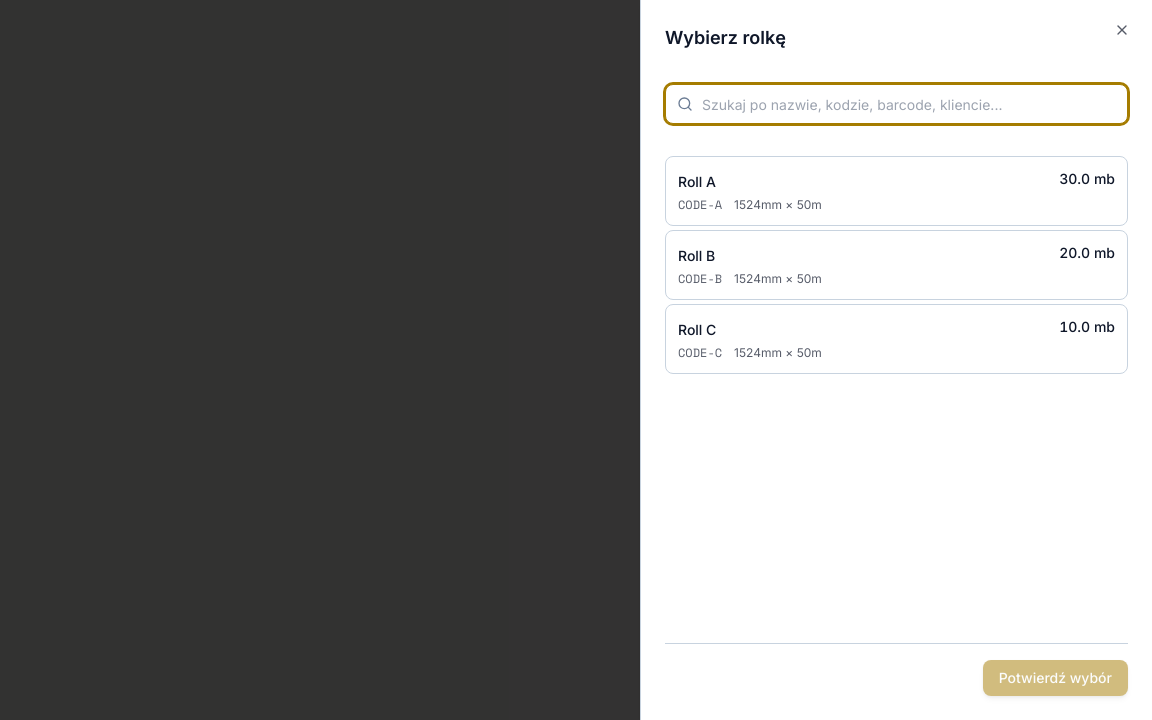
Test case: RollSelectDrawer › Selection toggling › deselects a roll when clicked again
Check: the text "Roll A" is shown, box left=678, top=173, right=716, bottom=190
Click the button "Roll A CODE-A 1524mm × 50m 30.0 mb" at x=697, y=182, box left=665, top=156, right=1128, bottom=226
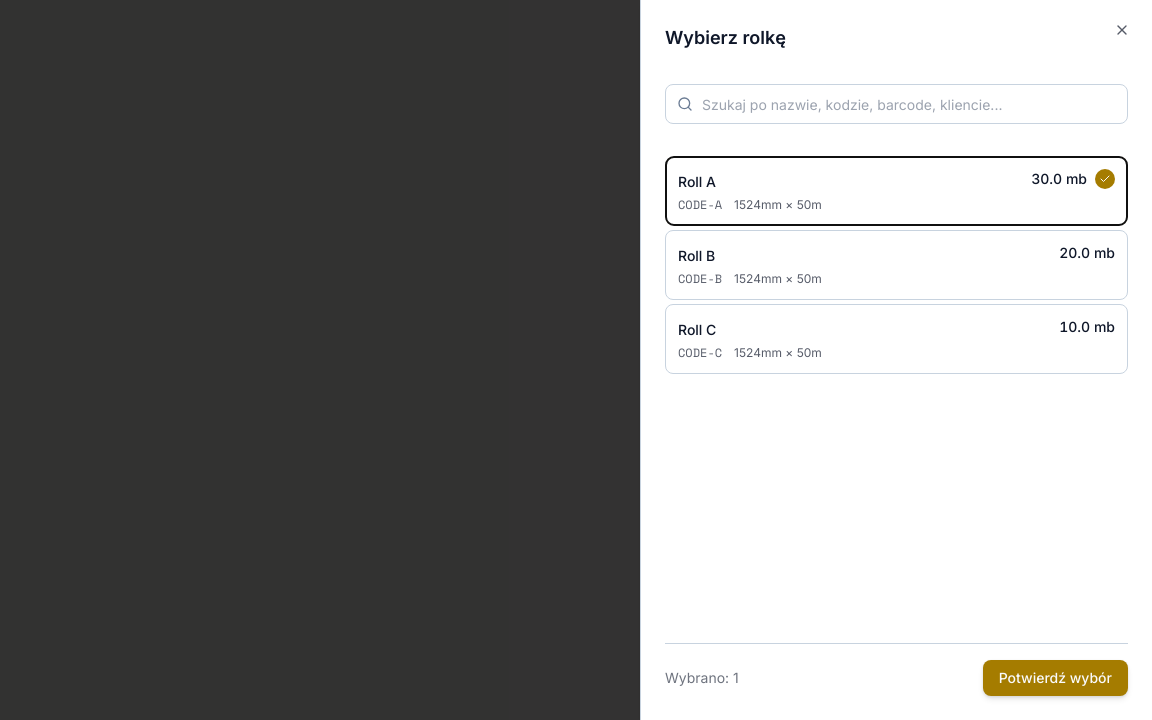
Check: the text "Wybrano: 1" is shown, box left=665, top=668, right=739, bottom=688
Click the button "Roll A CODE-A 1524mm × 50m 30.0 mb" at x=697, y=182, box left=665, top=156, right=1128, bottom=226
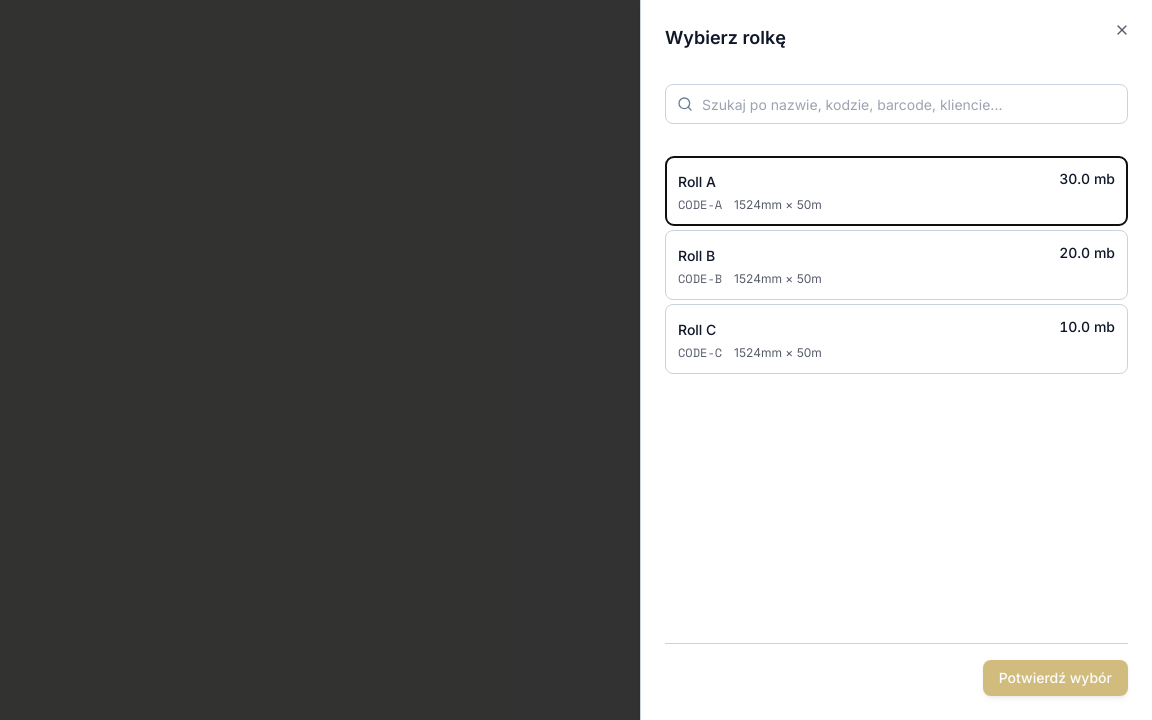
Check: the text "Wybrano: 1" is gone
